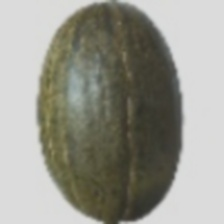honeydew: (0, 38, 197, 210)
